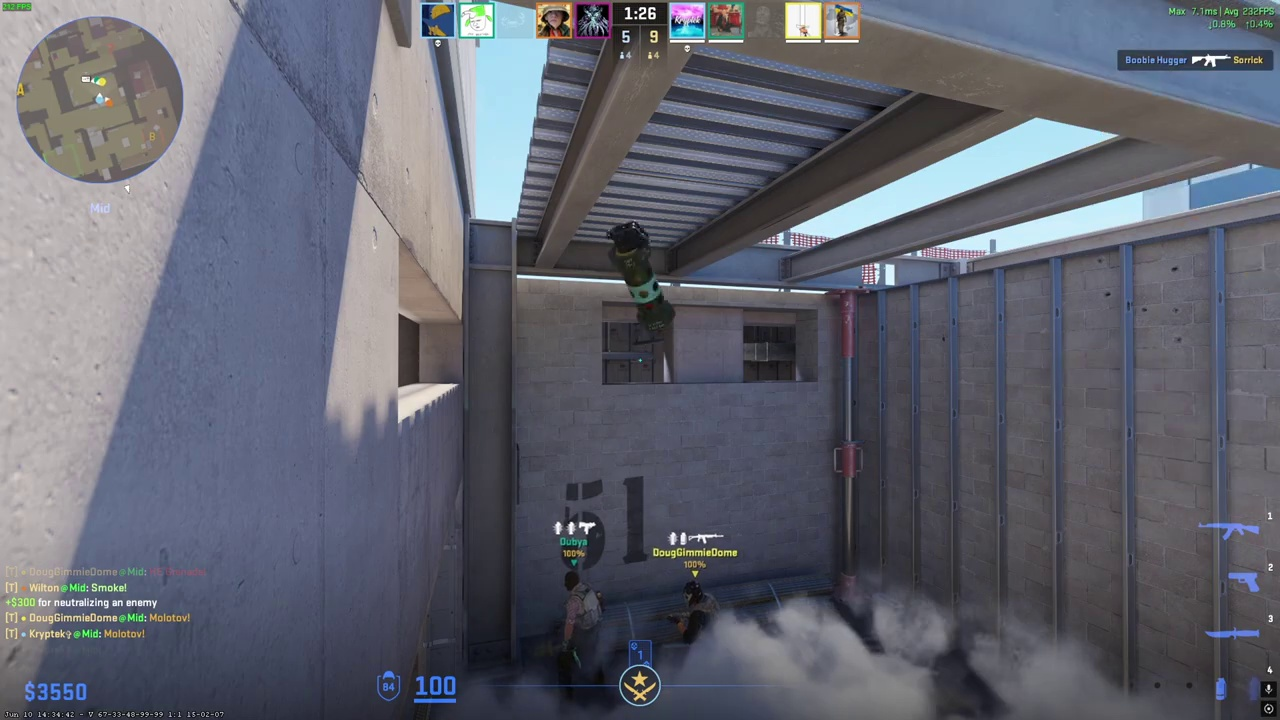Terrorist: (556, 571, 605, 695), (676, 580, 718, 641)
